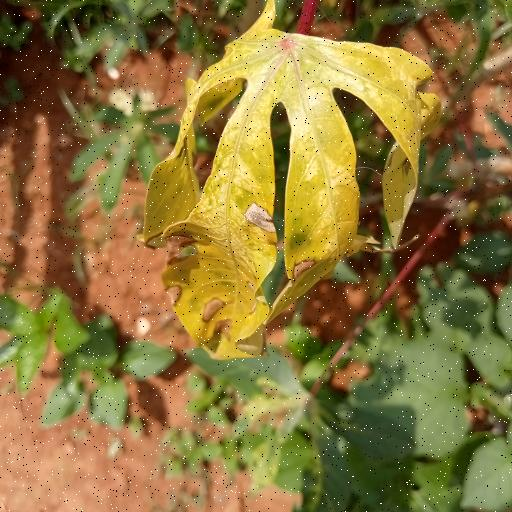Cassava_Brown_Leaf_Spot: (139, 0, 440, 361)
